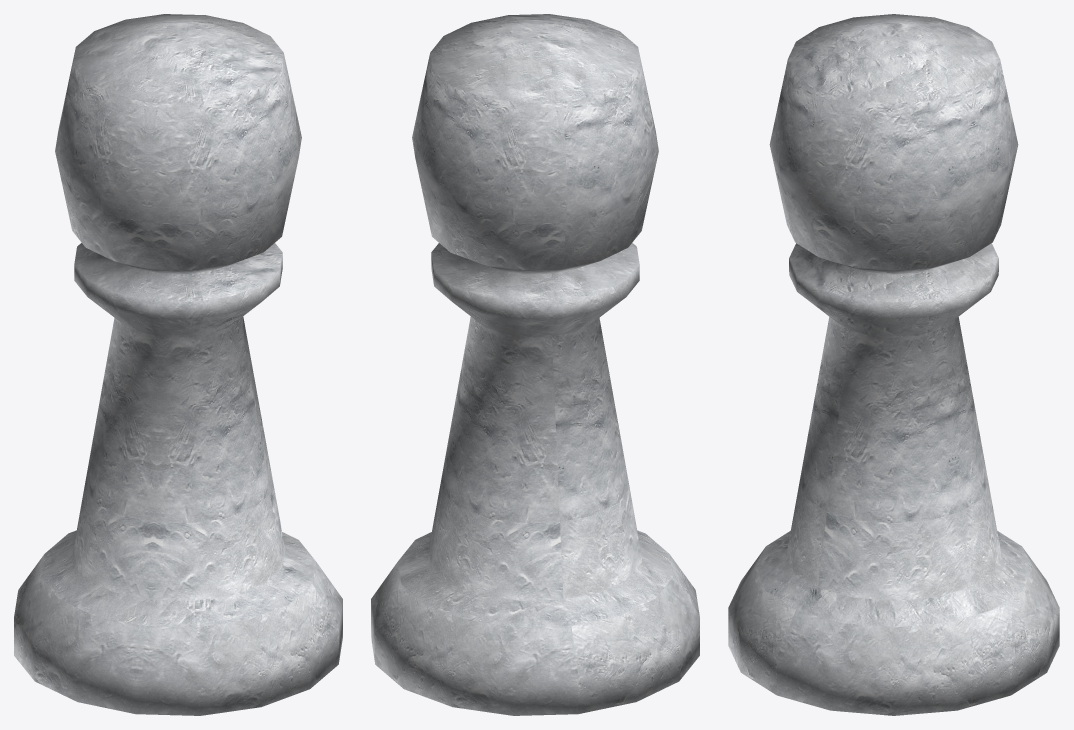
File: pawn.glb
3 views of the same model, side by side, from view 1: azimuth 30°, elevation 25°; view 2: azimuth 150°, elevation 25°; view 3: azimuth 270°, elevation 25° (orthographic).
Parts seen in each view (by area): view 1: Cylinder; view 2: Cylinder; view 3: Cylinder.
Boxes of the visible parts, bbox=[...] form: Cylinder: bbox=[14, 14, 342, 715]; Cylinder: bbox=[371, 14, 699, 715]; Cylinder: bbox=[728, 14, 1059, 715].
Size of the model in its own units: 2.12 by 4.3 by 2.12.
Materials: 1 (1 with a texture image).
